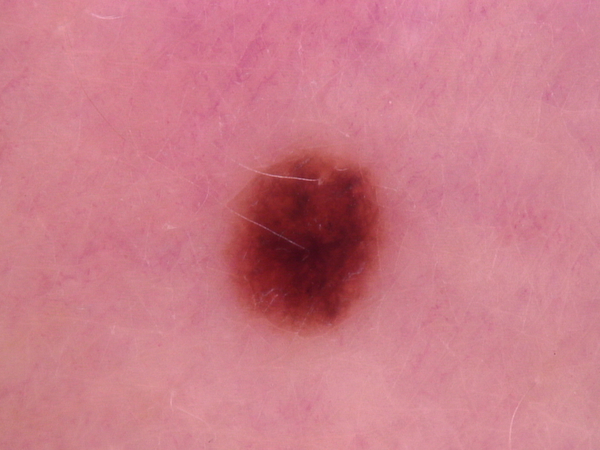Detected Lesion: (219, 146, 389, 337)
